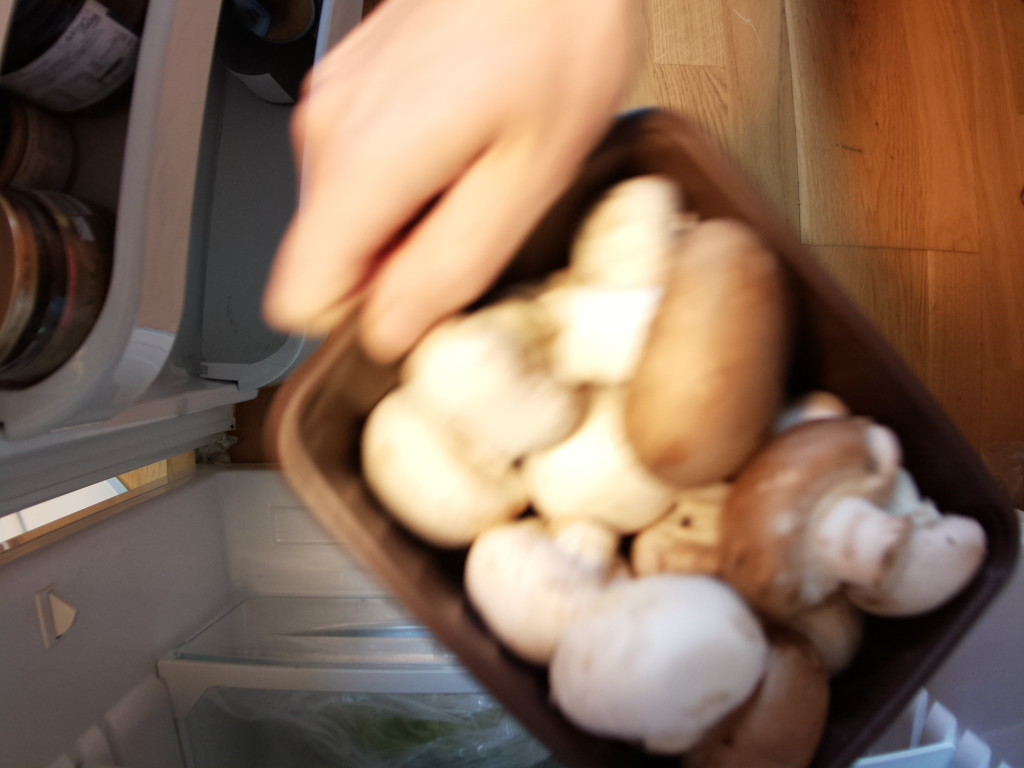mushrooms: (259, 102, 1022, 768)
